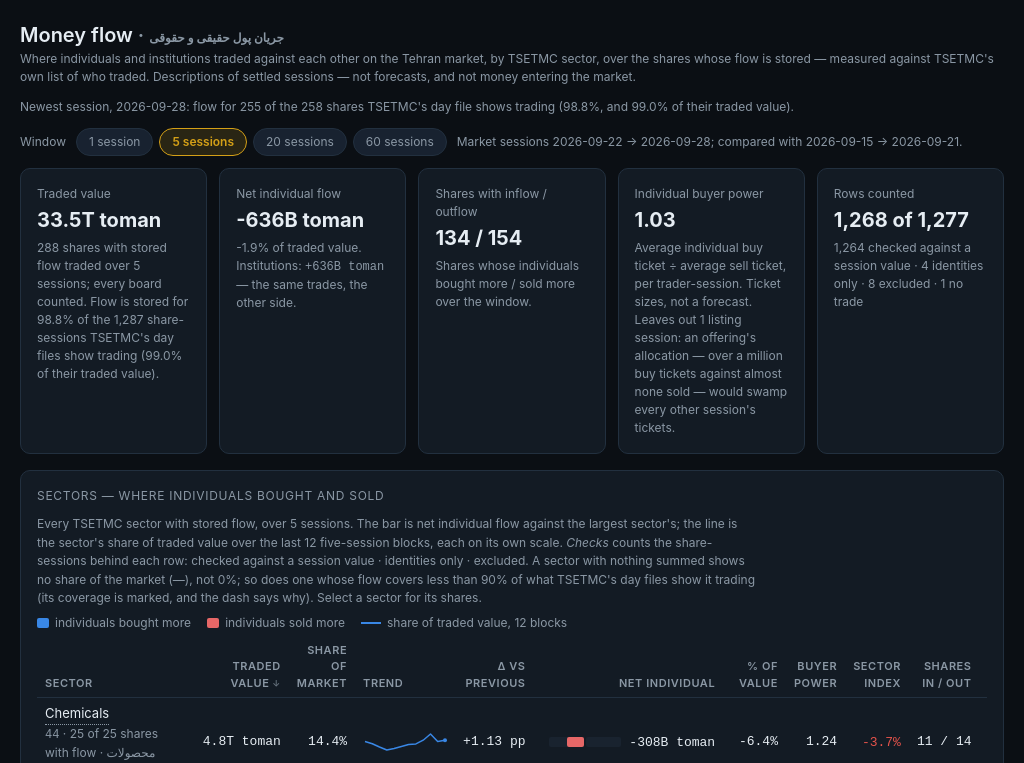
Scenario: the market over a window › switches every figure with the window chips
Click the button "20 sessions".
click(300, 142)  # box [253,128,347,156]
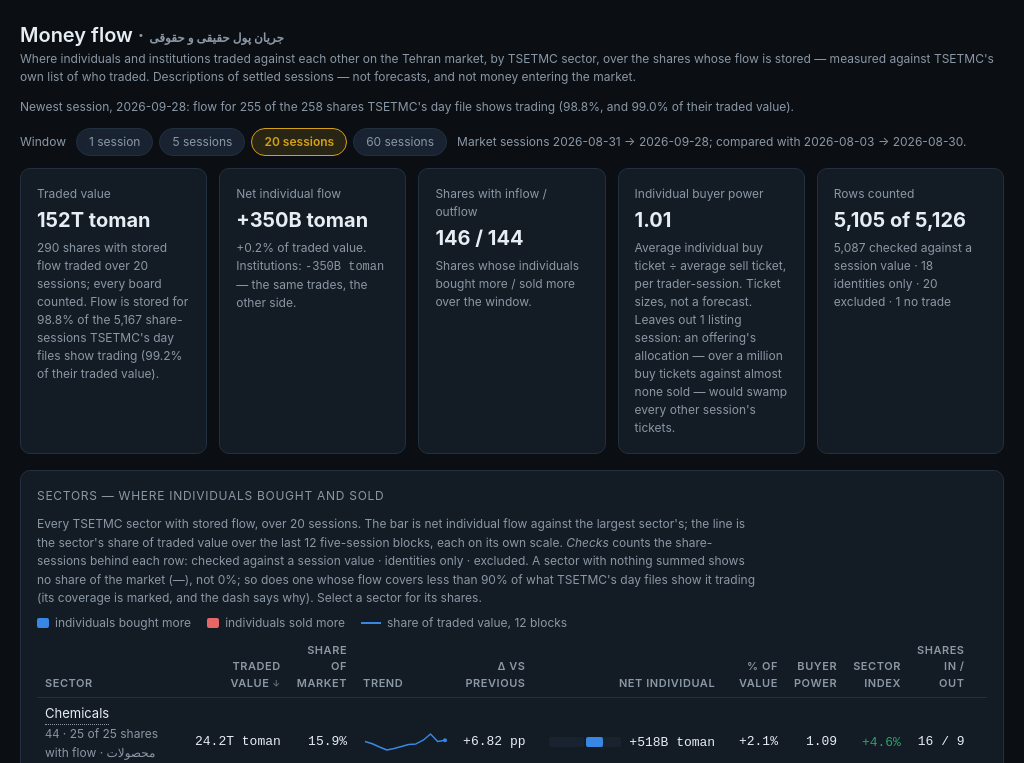
Expected: the element with test id "mf-tile-value" shows "152T toman", [37,208,150,232]
Expected: the element with test id "mf-tile-net" shows "+350B toman", [236,208,368,232]
Expected: the text with test id "mf-window-span" shows "2026-08-31 → 2026-09-28", [457,133,966,151]
فولاد's three boards are one company in the sixty-session list.
Click the button "60 sessions".
click(400, 142)  # box [353,128,447,156]
(page scrolled)
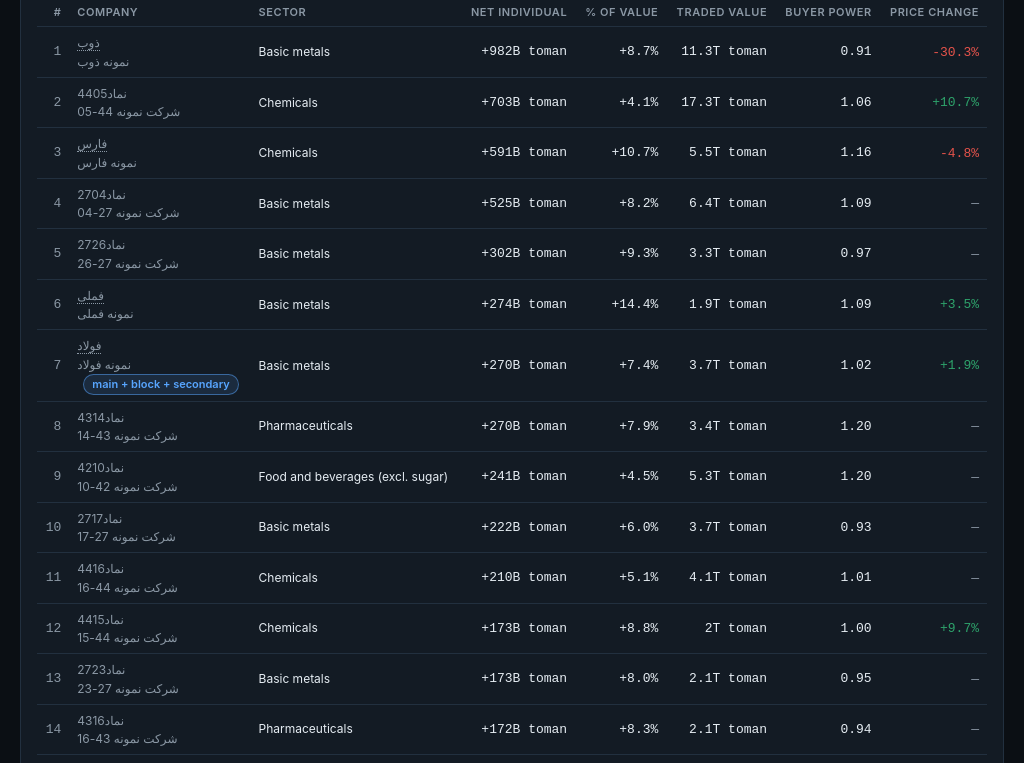
Expected: the text "main + block + secondary" is shown, [83,374,239,395]
